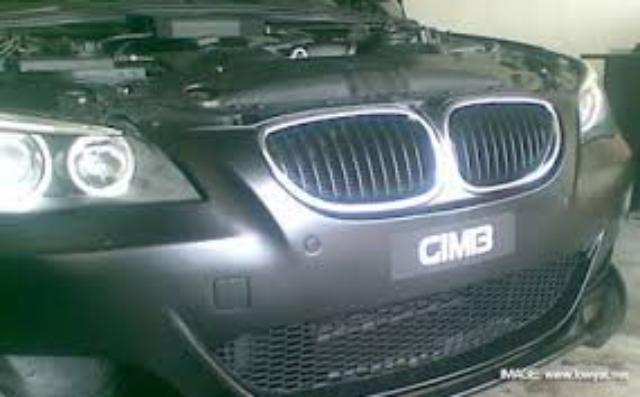License_Plate: (380, 213, 519, 282)
